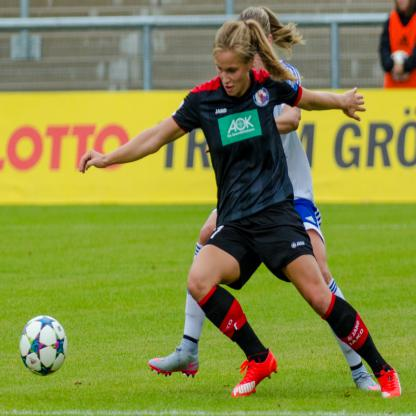Ball: (18, 314, 68, 376)
